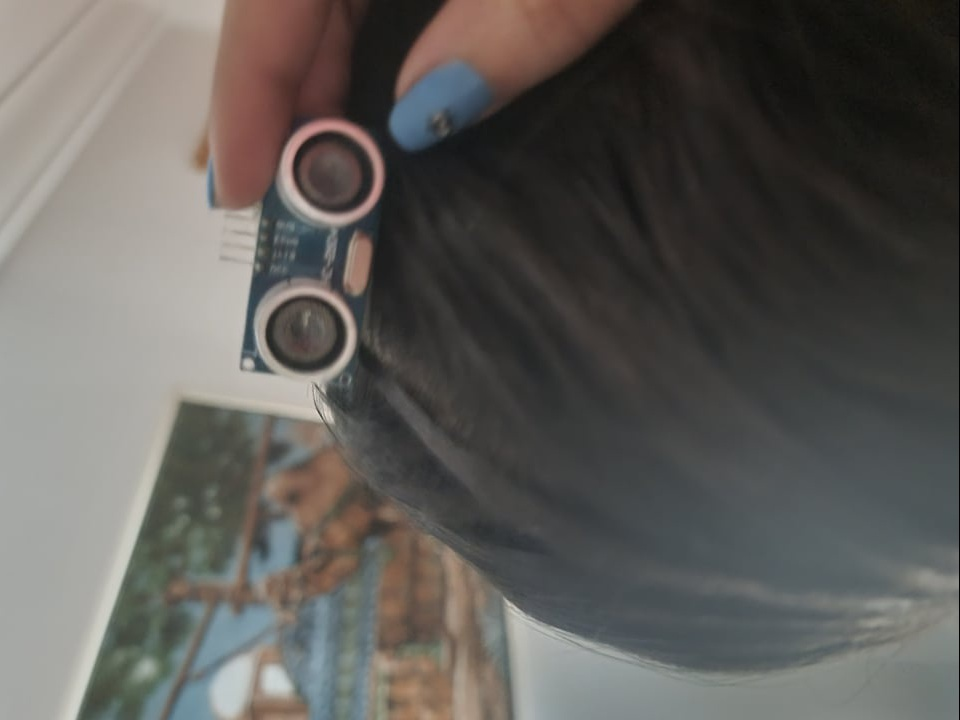SENSOR: (244, 106, 393, 382)
